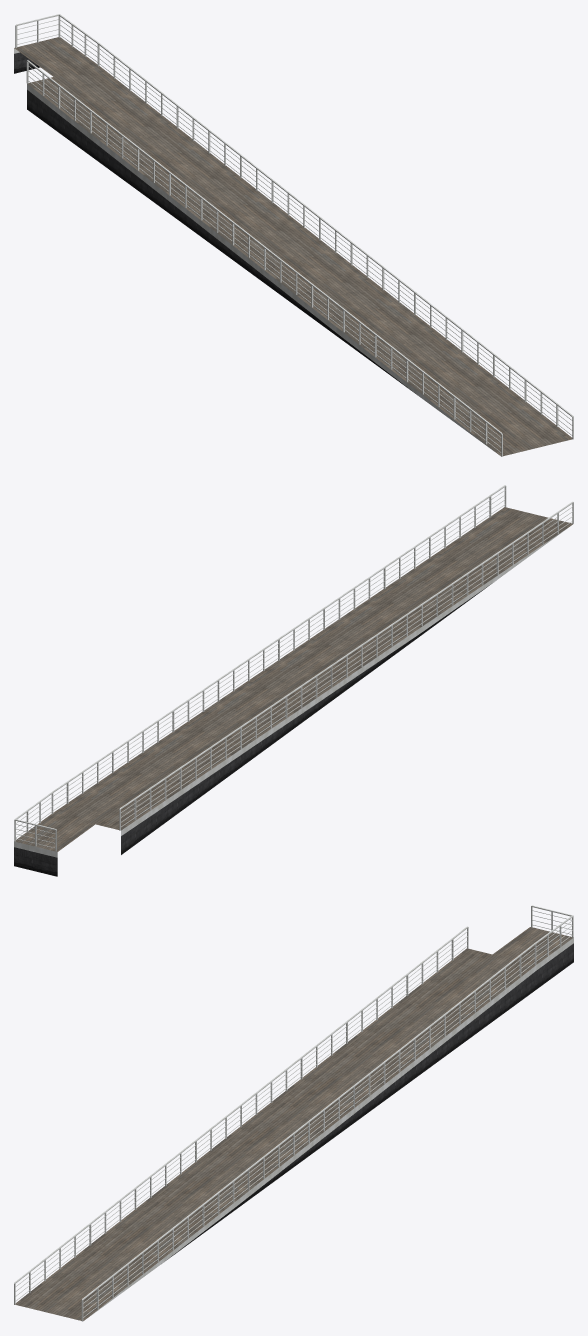
The model's file is SM_Mirabello_Passerella.fbx.
3 views of the same model, one above another, from view 1: azimuth 30°, elevation 25°; view 2: azimuth 150°, elevation 25°; view 3: azimuth 330°, elevation 25° (orthographic). The views are drawn at different scales.
Visible parts, largest first — view 1: SM_Mirabello_Passerella; view 2: SM_Mirabello_Passerella; view 3: SM_Mirabello_Passerella.
Part boxes in pixels (x1,y1,x2,y2): SM_Mirabello_Passerella: [14, 14, 573, 456]; SM_Mirabello_Passerella: [14, 485, 573, 876]; SM_Mirabello_Passerella: [14, 905, 573, 1321].
Size of what is drawn, in the model's own units: 380 by 4673 by 245.
3 materials, 3 textured.
